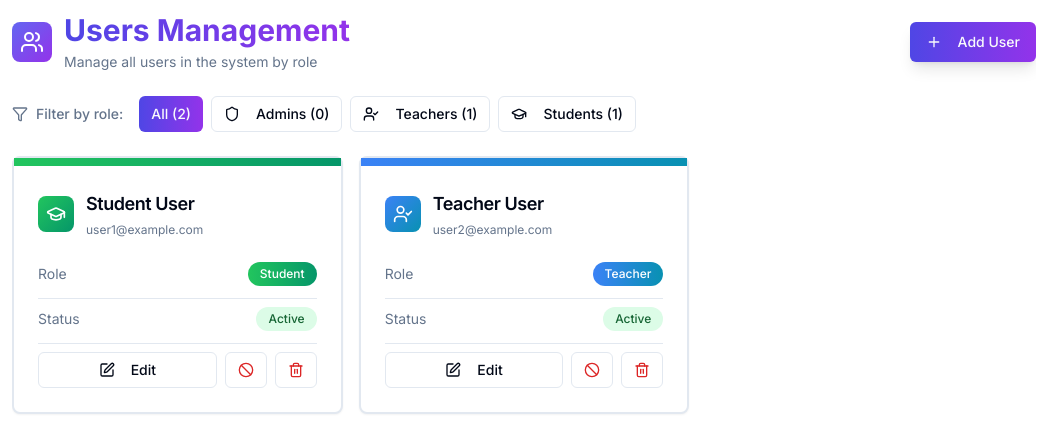
UsersTab › should filter users by role
Expected: the text "Student User" is shown, top-left (86, 193), bottom-right (194, 214)
Expected: the text "Teacher User" is shown, top-left (433, 193), bottom-right (544, 214)
Note: Filter by teacher role - click the Teachers button
Click the button "Teachers (1)" at [420, 114], box top-left (350, 96), bottom-right (490, 132)
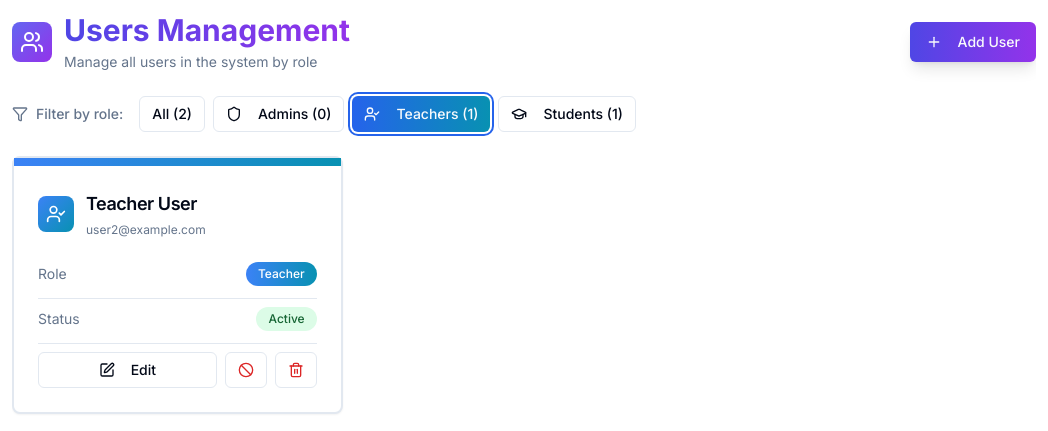
Expected: the text "Teacher User" is shown, top-left (86, 193), bottom-right (197, 214)
Now the text "Student User" is gone
